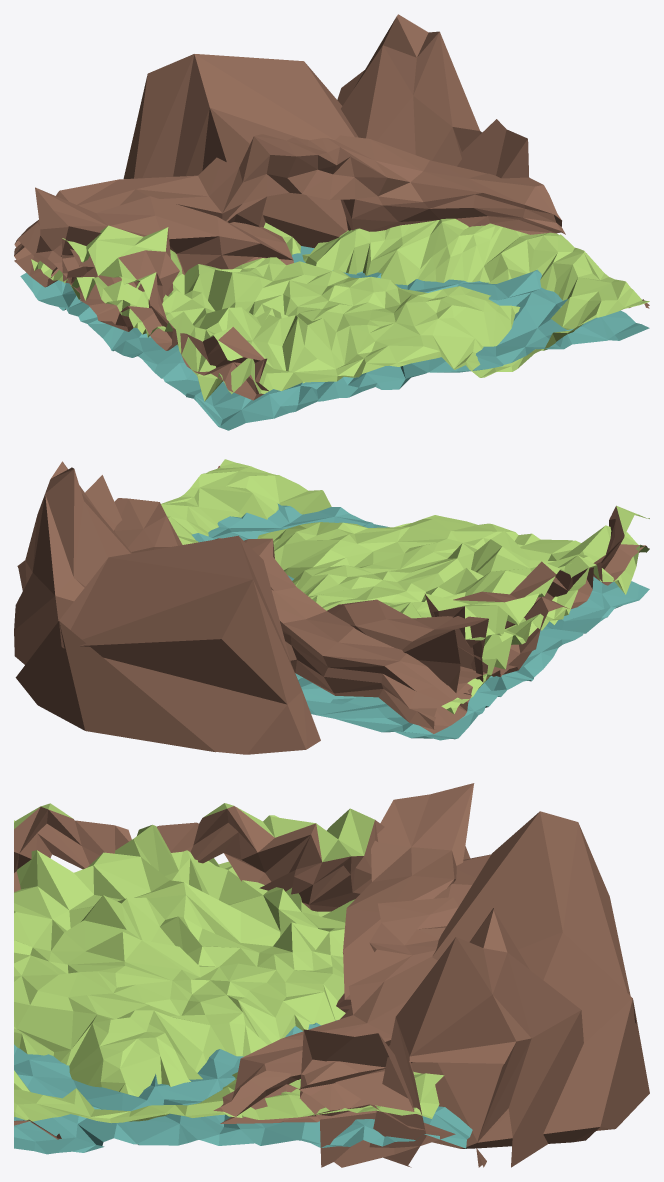
File: RG_Terrain-Mesh-02.fbx
The picture shows the model from 3 angles, top to bottom: view 1: azimuth 30°, elevation 25°; view 2: azimuth 150°, elevation 25°; view 3: azimuth 270°, elevation 25°; orthographic projection. The views are drawn at different scales.
Parts seen in each view (by area): view 1: RG_Terrain-Mesh-02; view 2: RG_Terrain-Mesh-02; view 3: RG_Terrain-Mesh-02.
Part boxes in pixels (x1,y1,x2,y2): RG_Terrain-Mesh-02: [14, 14, 649, 430]; RG_Terrain-Mesh-02: [14, 459, 649, 754]; RG_Terrain-Mesh-02: [14, 783, 649, 1167].
Size of the model in its own units: 156 by 68.83 by 172.
